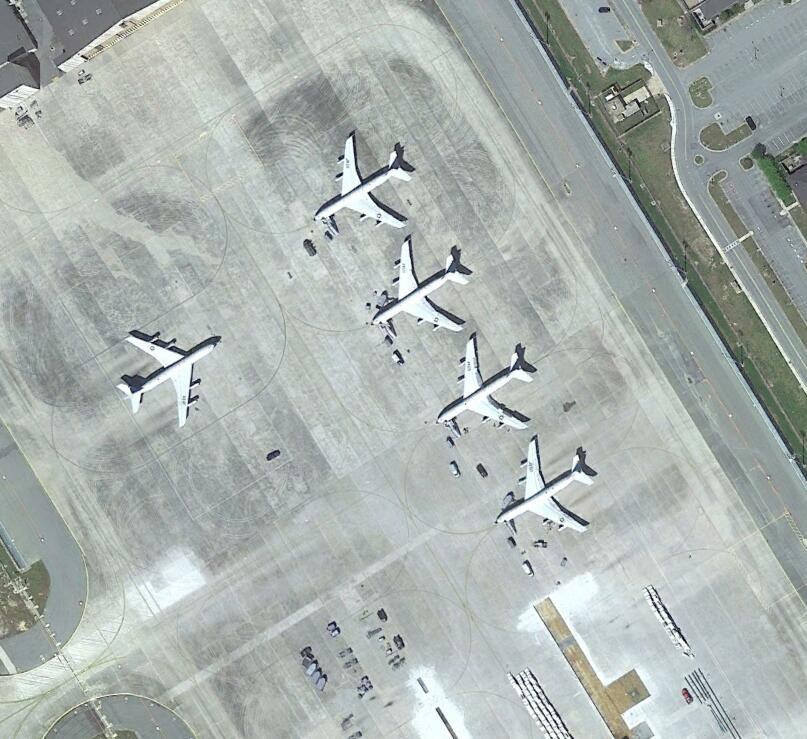A11: (311, 134, 415, 231), (495, 438, 598, 534), (369, 238, 472, 333), (438, 338, 539, 433), (119, 331, 217, 425)
